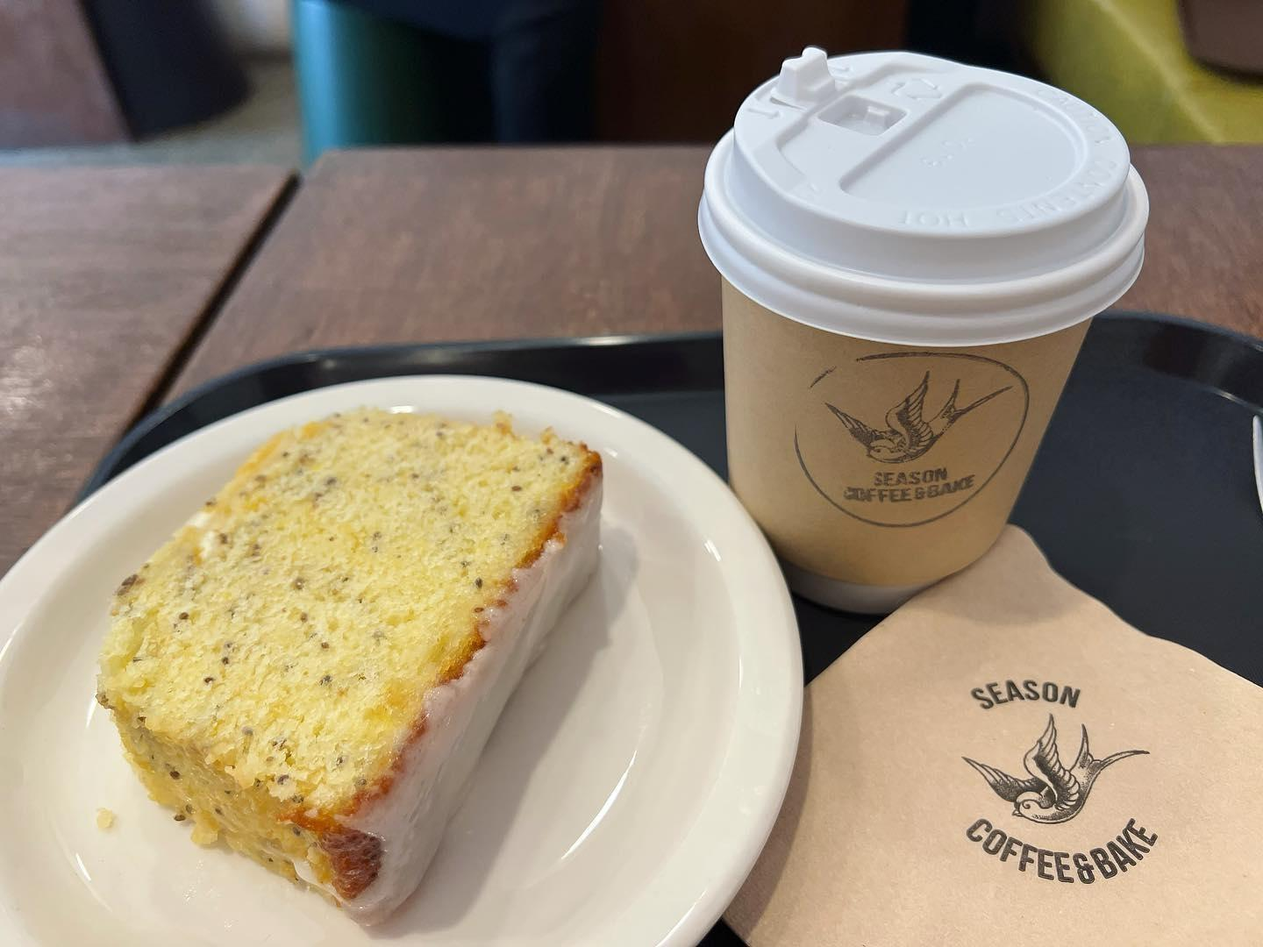cup-disposable: (689, 45, 1159, 662)
